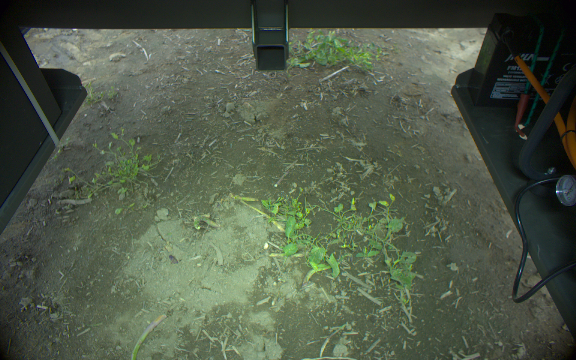aspa: (131, 312, 167, 360)
